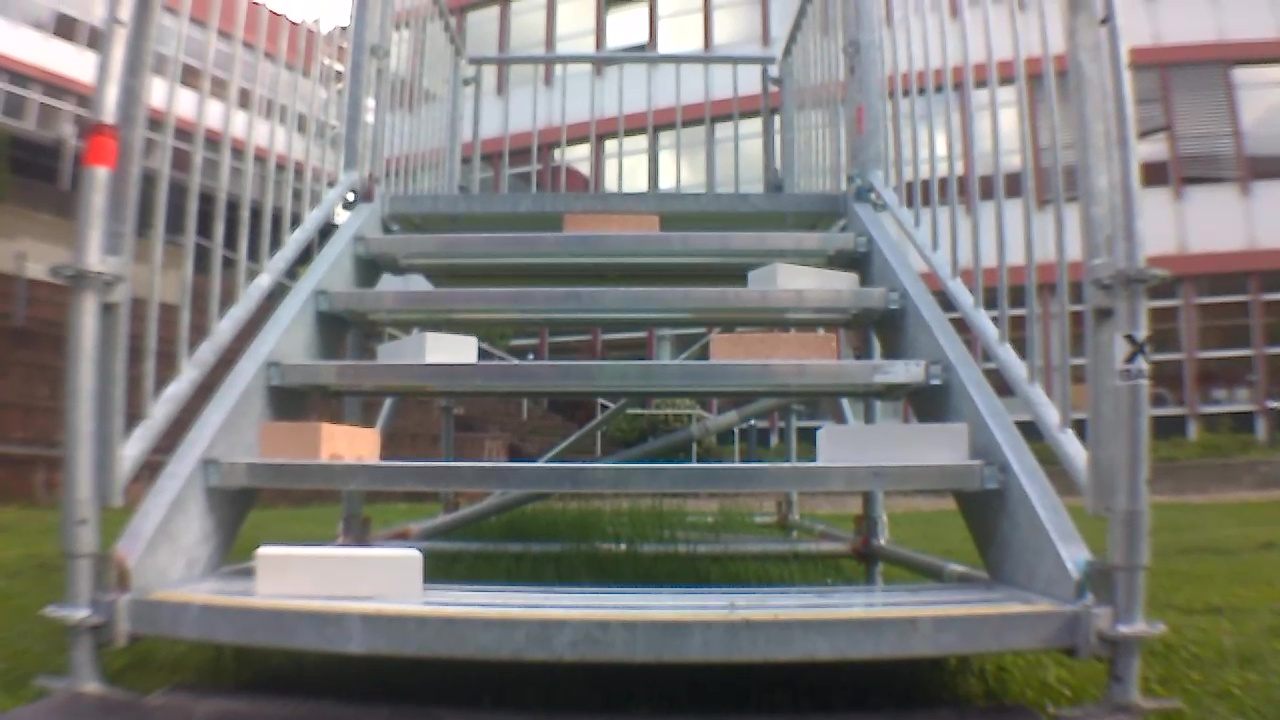brick: (249, 544, 429, 597), (809, 419, 971, 464), (258, 419, 385, 463), (703, 330, 842, 366), (374, 331, 485, 365), (742, 262, 859, 293), (559, 211, 665, 236)
edge: (133, 599, 1096, 656), (267, 358, 946, 392), (201, 461, 1005, 486), (313, 290, 905, 317), (349, 232, 875, 258), (379, 193, 851, 218)
stairs: (58, 0, 1135, 708)
steps: (117, 190, 1107, 671)
